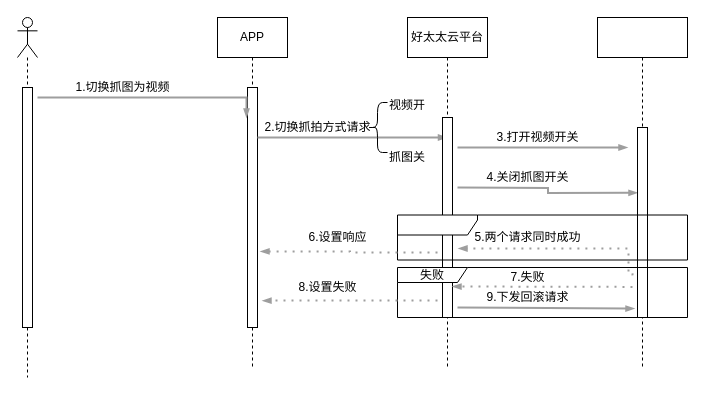
The diagram is 705 pixels wide and 395 high, and some of its shapes have lost their labels. Here are the shapes that lost their labels. From the top down, the box of each, then its label:
(596, 16, 688, 368): 飞燕平台
(396, 214, 688, 260): 成功
